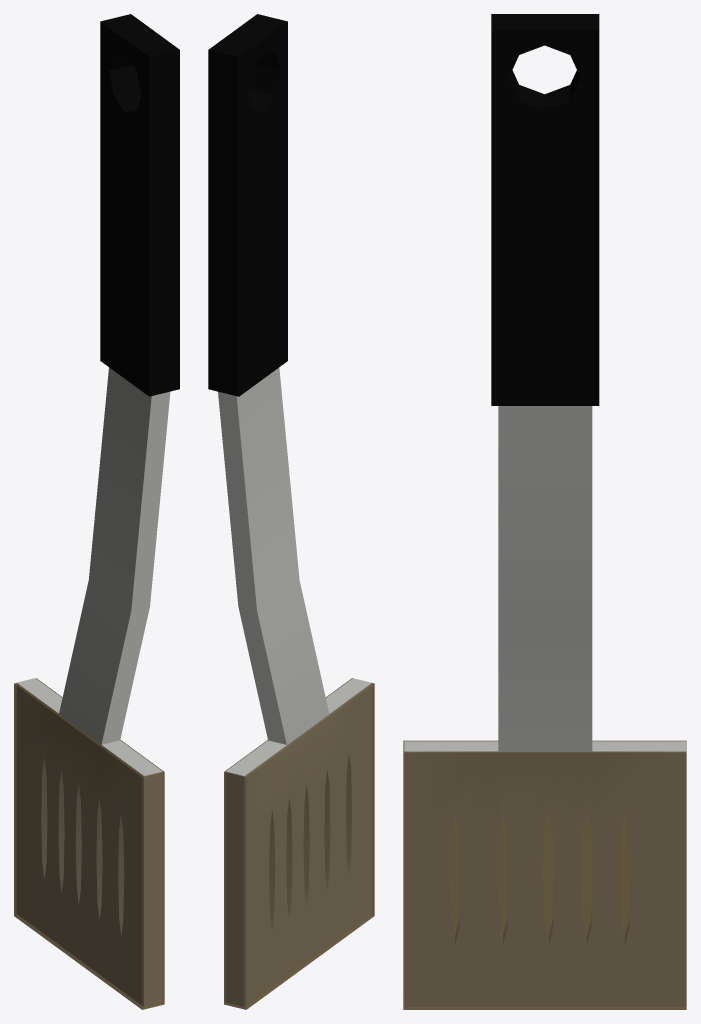
Rendered from Dirty_Spatula.fbx.
The picture shows the model from 3 angles, left to right: view 1: azimuth 30°, elevation 25°; view 2: azimuth 150°, elevation 25°; view 3: azimuth 270°, elevation 25°; orthographic projection. The views are drawn at different scales.
Parts seen in each view (by area): view 1: Dirty_Spatula; view 2: Dirty_Spatula; view 3: Dirty_Spatula.
Part boxes in pixels (x1,y1,x2,y2): Dirty_Spatula: (14, 14, 179, 1009); Dirty_Spatula: (208, 14, 374, 1009); Dirty_Spatula: (403, 14, 686, 1009).
Size of the model in its own units: 4.83 by 54.39 by 13.85.
